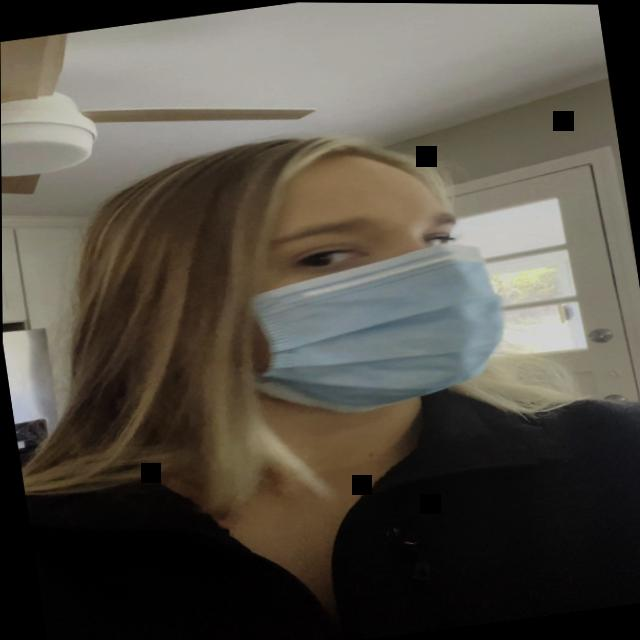Mask: (202, 123, 516, 431)
